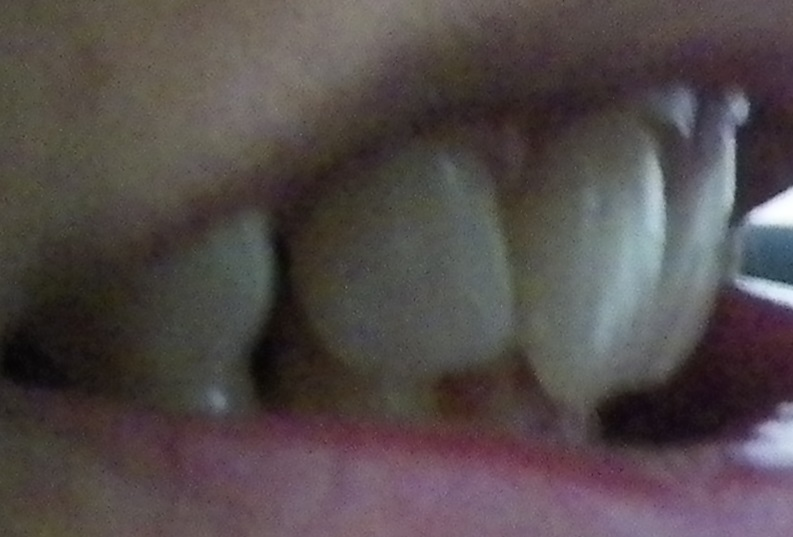boca: (98, 139, 741, 434)
